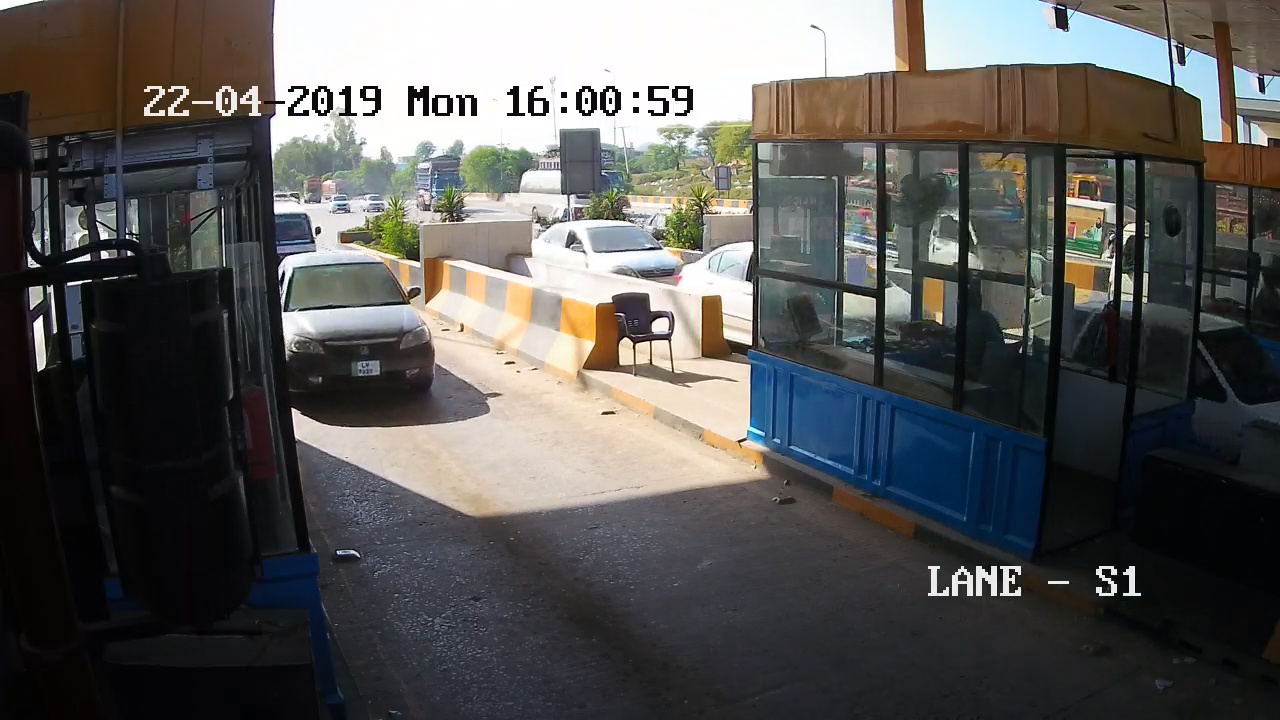car: (271, 237, 458, 435)
